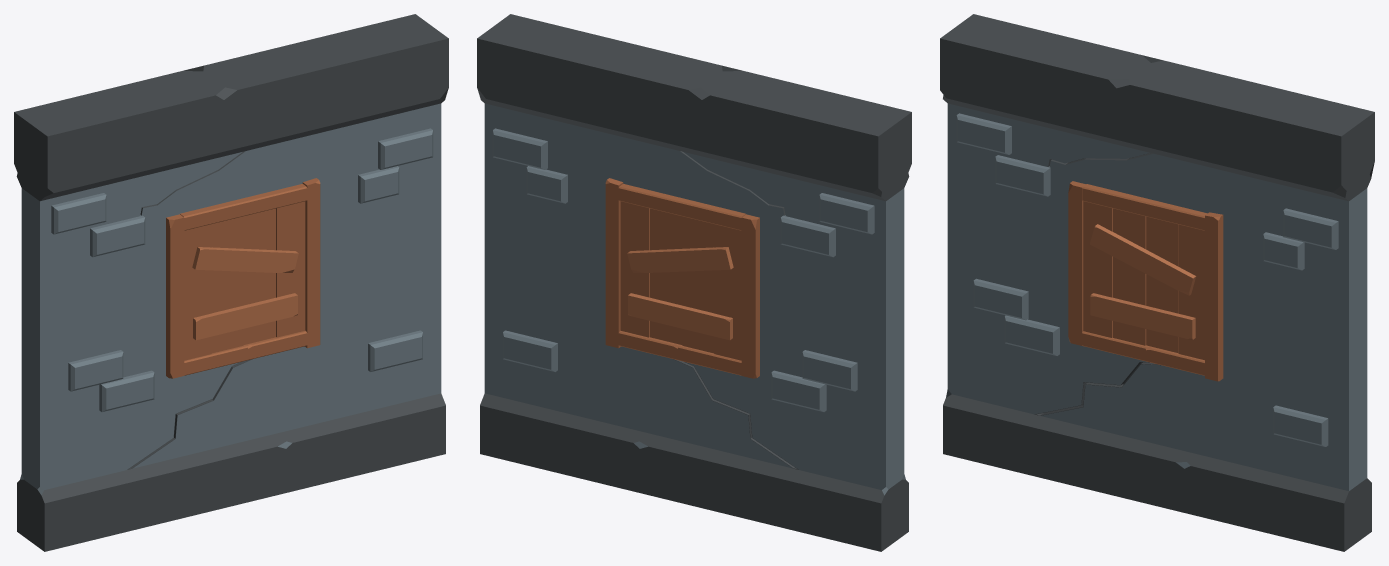
Rendered from wall_1_4.obj.
3 renders of one model, left to right at view 1: azimuth 30°, elevation 25°; view 2: azimuth 150°, elevation 25°; view 3: azimuth 330°, elevation 25°, orthographic.
Visible parts, largest first — view 1: wall_1_4; view 2: wall_1_4; view 3: wall_1_4.
Boxes of the visible parts, x1,y1,x2,y2 form: wall_1_4: (14, 14, 448, 551); wall_1_4: (477, 14, 911, 551); wall_1_4: (940, 14, 1374, 551).
Bounding box in the file's own units: 1.54 × 1.53 × 0.222.
